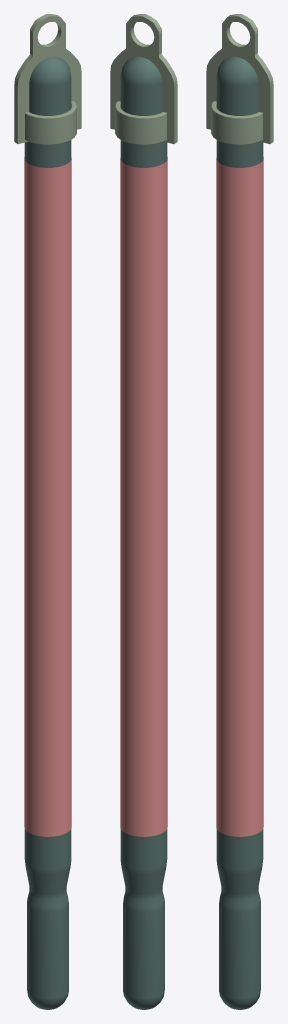
The model's file is LP_Thermometer_01.fbx.
3 renders of one model, left to right at view 1: azimuth 30°, elevation 25°; view 2: azimuth 150°, elevation 25°; view 3: azimuth 330°, elevation 25°, orthographic.
Parts seen in each view (by area): view 1: polySurface12; view 2: polySurface12; view 3: polySurface12.
Part boxes in pixels (x1=…): polySurface12: x1=14, y1=14, x2=81, y2=1009; polySurface12: x1=110, y1=14, x2=177, y2=1009; polySurface12: x1=206, y1=14, x2=273, y2=1009.
Bounding box in the file's own units: 1.09 × 16.16 × 0.8576.
